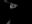person: (8, 4, 16, 11), (5, 18, 13, 23), (4, 1, 8, 5)
